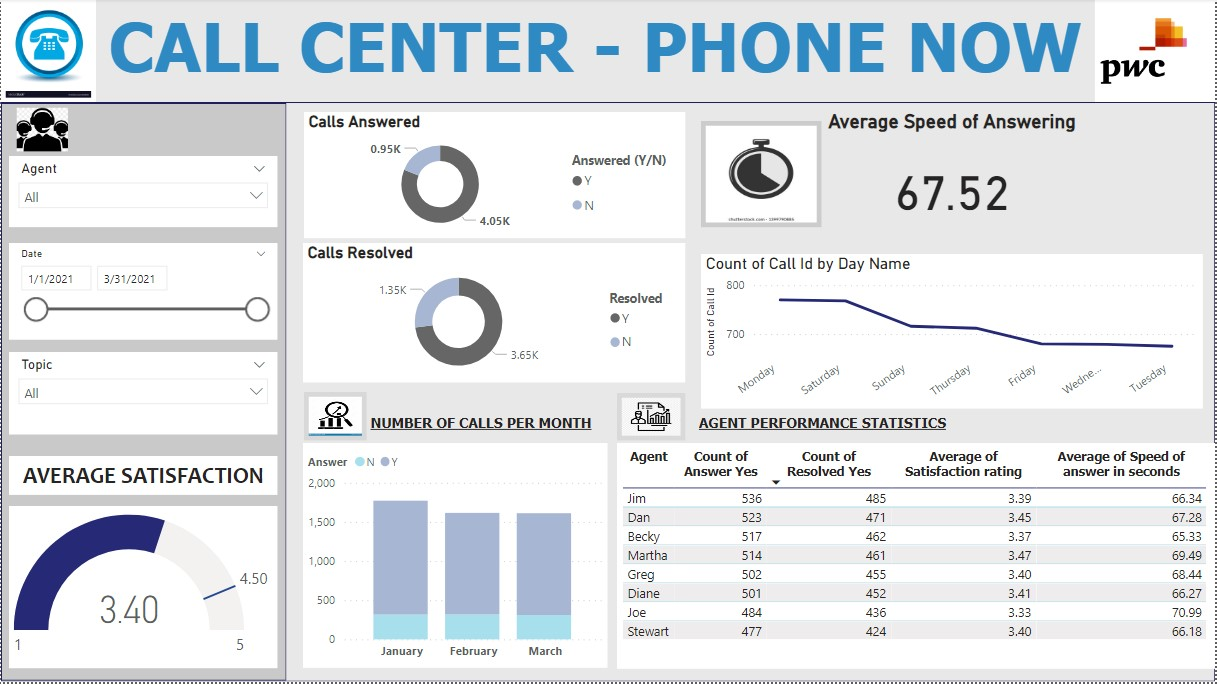

What the dashboard file says about the page in this screenshot:
{"tool":"powerbi","page":{"name":"Page 2","canvas":[1280,720],"ordinal":0},"visuals":[{"type":"image","box":[1128.8,0,151.2,110.2],"z":0},{"type":"image","box":[0,0,100.5,110.2],"z":1000},{"type":"textbox","box":[100.5,0,1053.2,110.2],"z":2000},{"type":"shape","box":[0,108.4,1280,610.7],"z":3000},{"type":"shape","box":[0,109.6,300.9,609.4],"z":4000},{"type":"slicer","fields":{"Values":["Sheet1.Agent"]},"box":[8.9,165.7,283,75.2],"z":5000},{"type":"slicer","fields":{"Values":["Sheet1.Topic"]},"box":[8.9,372.3,283,86.7],"z":6000},{"type":"slicer","fields":{"Values":["Sheet1.Date"]},"box":[8.9,257.5,283,102],"z":7000},{"type":"gauge","fields":{"TargetValue":["Sheet1.target rate"],"MaxValue":["Sheet1.Satisfaction rating"],"MinValue":["Sum(Sheet1.Satisfaction rating)1"],"Y":["Sum(Sheet1.Satisfaction rating)2"]},"box":[8.9,534.2,283,170.8],"z":8000},{"type":"textbox","box":[8.9,481.9,283,40.8],"z":9000},{"type":"image","box":[11.5,109.6,63.7,56.1],"z":10000},{"type":"tableEx","fields":{"Values":["Sheet1.Agent","Sheet1.Answer Yes","Sheet1.Resolved Yes","Sheet1.Satisfaction rating","Sheet1.Speed of answer in seconds"]},"box":[648.9,467.9,631.1,238.4],"z":12000},{"type":"columnChart","fields":{"Category":["Sheet1.Date.Variation.Date Hierarchy.Month"],"Y":["Sheet1.Answered (Y/N)"],"Series":["Sheet1.Answered (Y/N)"]},"box":[318.7,467.9,321.3,237.1],"z":13000},{"type":"donutChart","title":"Calls  Answered","fields":{"Category":["Sheet1.Answered (Y/N)"],"Y":["Sheet1.Call Id"]},"box":[318.9,118.9,402.2,133.3],"z":14000},{"type":"donutChart","title":"Calls Resolved","fields":{"Category":["Sheet1.Resolved"],"Y":["Sheet1.Call Id"]},"box":[318.7,257.5,402.9,146.6],"z":15000},{"type":"lineChart","fields":{"Category":["Sheet1.Day Name"],"Y":["Sheet1.Call Id"]},"box":[737.8,268.9,528.9,163.3],"z":16000},{"type":"textbox","box":[372.2,432.2,267.8,35.6],"z":17000},{"type":"image","box":[318.9,414.4,65.6,51.1],"z":18000},{"type":"textbox","box":[730.5,432.2,536.6,33.7],"z":19000},{"type":"image","box":[648.9,415.6,72.2,50],"z":20000},{"type":"card","title":"Average Speed of Answering","fields":{"Values":["Sheet1.Speed of answer in seconds"]},"box":[738.2,117.3,529.1,139],"z":21000},{"type":"image","box":[738.2,128.8,127.5,112.2],"z":22000}]}

Visuals, with their boxes in screenshot pixels (x1, y1, x2, y2), scaled from the page's 1280x720 canvas onto the 1217x685 screenshot:
image: {"x1": 1073, "y1": 0, "x2": 1216, "y2": 105}
image: {"x1": 0, "y1": 0, "x2": 96, "y2": 105}
textbox: {"x1": 96, "y1": 0, "x2": 1097, "y2": 105}
shape: {"x1": 0, "y1": 103, "x2": 1216, "y2": 684}
shape: {"x1": 0, "y1": 104, "x2": 286, "y2": 684}
slicer - Sheet1.Agent: {"x1": 8, "y1": 158, "x2": 278, "y2": 229}
slicer - Sheet1.Topic: {"x1": 8, "y1": 354, "x2": 278, "y2": 437}
slicer - Sheet1.Date: {"x1": 8, "y1": 245, "x2": 278, "y2": 342}
gauge - Sheet1.target rate x Sheet1.Satisfaction rating: {"x1": 8, "y1": 508, "x2": 278, "y2": 671}
textbox: {"x1": 8, "y1": 458, "x2": 278, "y2": 497}
image: {"x1": 11, "y1": 104, "x2": 71, "y2": 158}
tableEx - Sheet1.Agent x Sheet1.Answer Yes: {"x1": 617, "y1": 445, "x2": 1216, "y2": 672}
columnChart - Sheet1.Date.Variation.Date Hierarchy.Month x Sheet1.Answered (Y/N): {"x1": 303, "y1": 445, "x2": 608, "y2": 671}
"Calls  Answered" donutChart: {"x1": 303, "y1": 113, "x2": 686, "y2": 240}
"Calls Resolved" donutChart: {"x1": 303, "y1": 245, "x2": 686, "y2": 384}
lineChart - Sheet1.Day Name x Sheet1.Call Id: {"x1": 701, "y1": 256, "x2": 1204, "y2": 411}
textbox: {"x1": 354, "y1": 411, "x2": 608, "y2": 445}
image: {"x1": 303, "y1": 394, "x2": 366, "y2": 443}
textbox: {"x1": 695, "y1": 411, "x2": 1205, "y2": 443}
image: {"x1": 617, "y1": 395, "x2": 686, "y2": 443}
"Average Speed of Answering" card: {"x1": 702, "y1": 112, "x2": 1205, "y2": 244}
image: {"x1": 702, "y1": 123, "x2": 823, "y2": 229}
